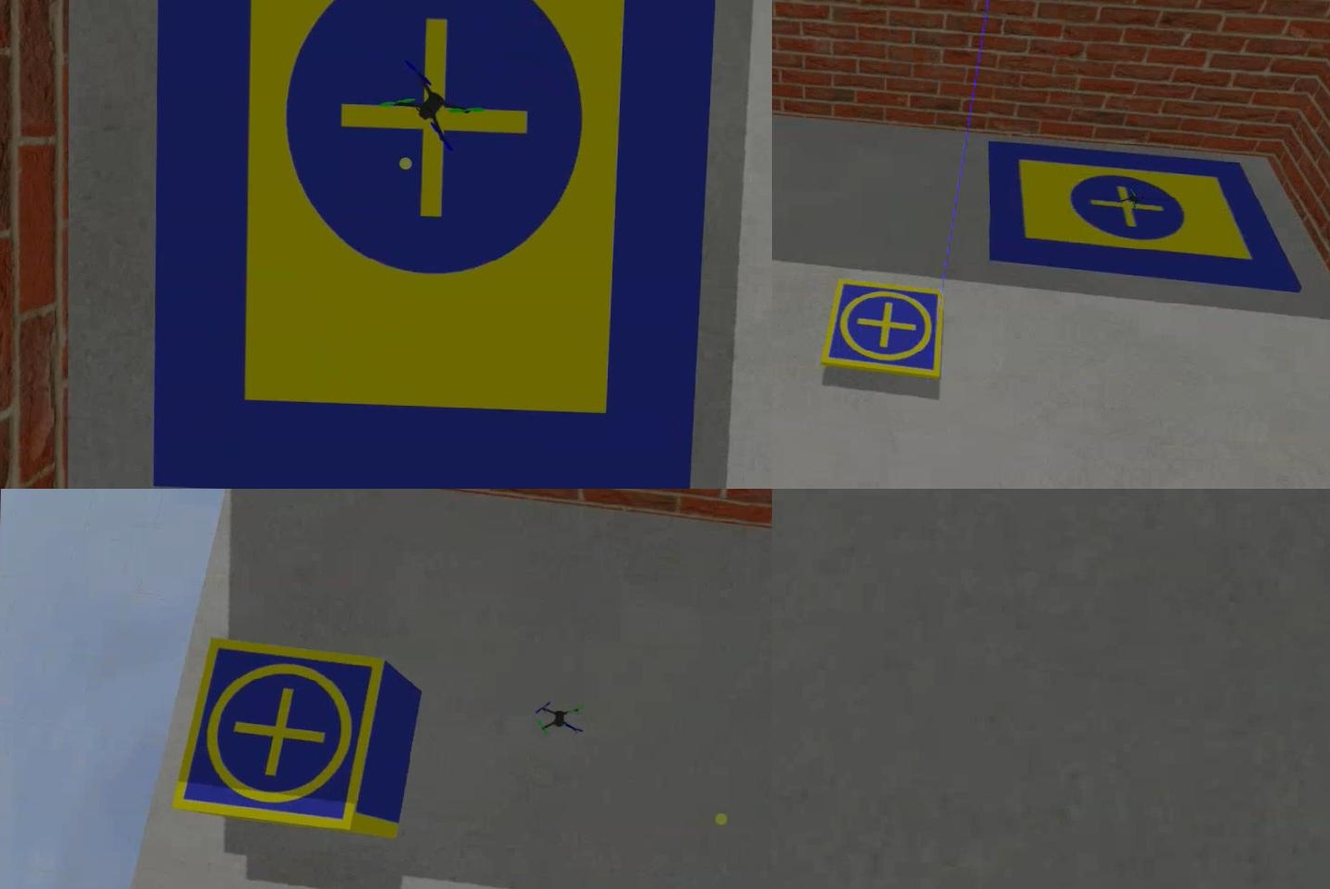large_base: (149, 1, 724, 490), (980, 145, 1308, 297)
small_base: (166, 637, 383, 836), (816, 275, 944, 382)
